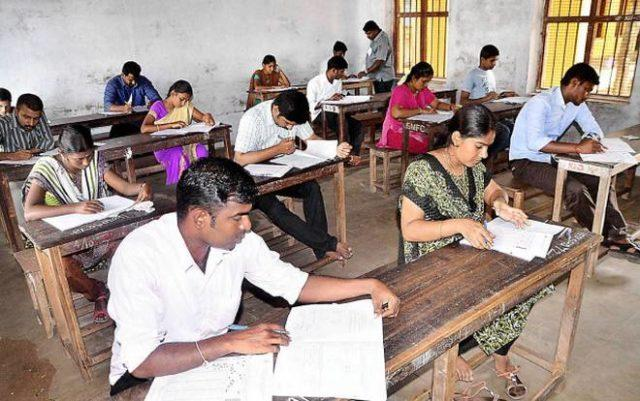invigilator: (362, 20, 397, 92)
student: (392, 96, 517, 276), (9, 123, 159, 238), (498, 55, 626, 163), (226, 81, 337, 176), (443, 32, 524, 107), (382, 54, 453, 132), (145, 78, 209, 164), (89, 51, 167, 118), (1, 92, 60, 165)
studentcopying: (153, 149, 408, 377)
